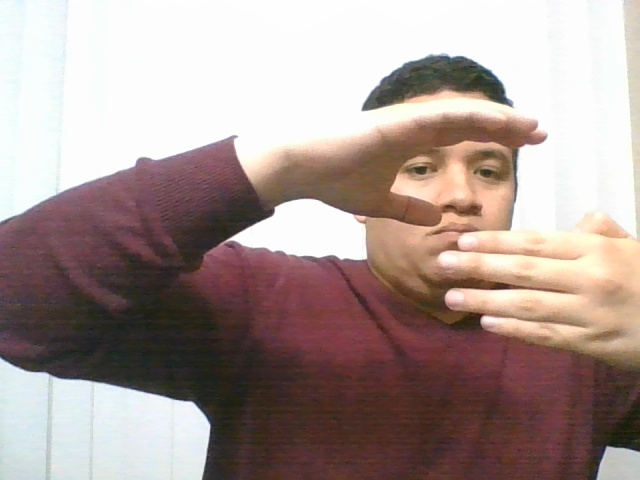To Study: (185, 76, 640, 375)
